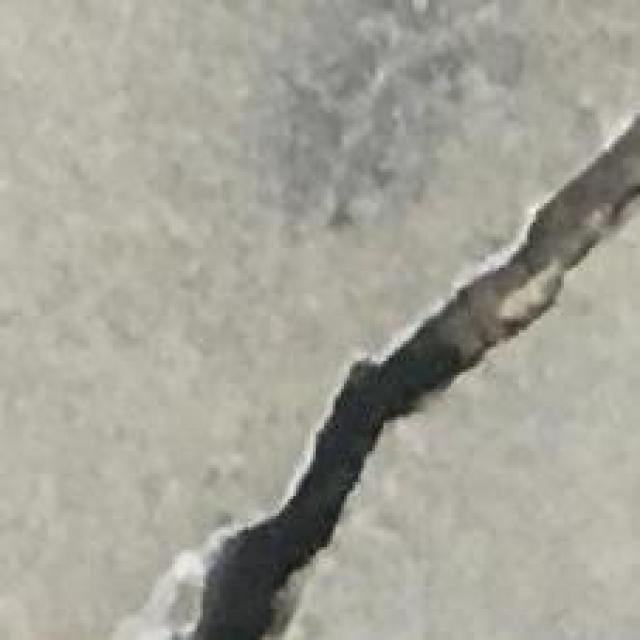diagonal crack: (194, 118, 639, 639)
